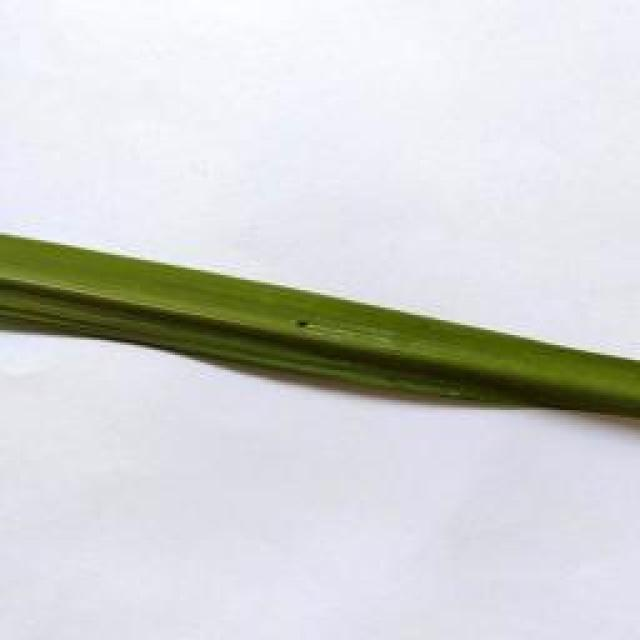Healthy-Plant: (0, 233, 640, 423)
